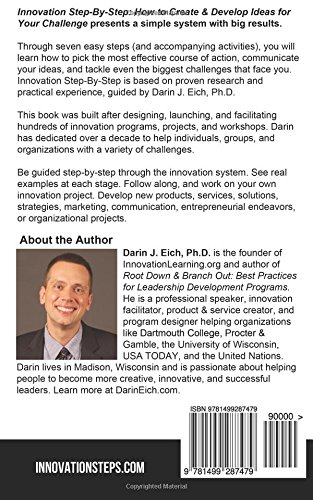barcode: (186, 404, 302, 478)
